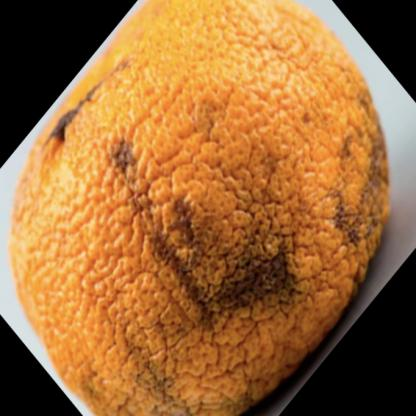rotten: (11, 1, 389, 416)
